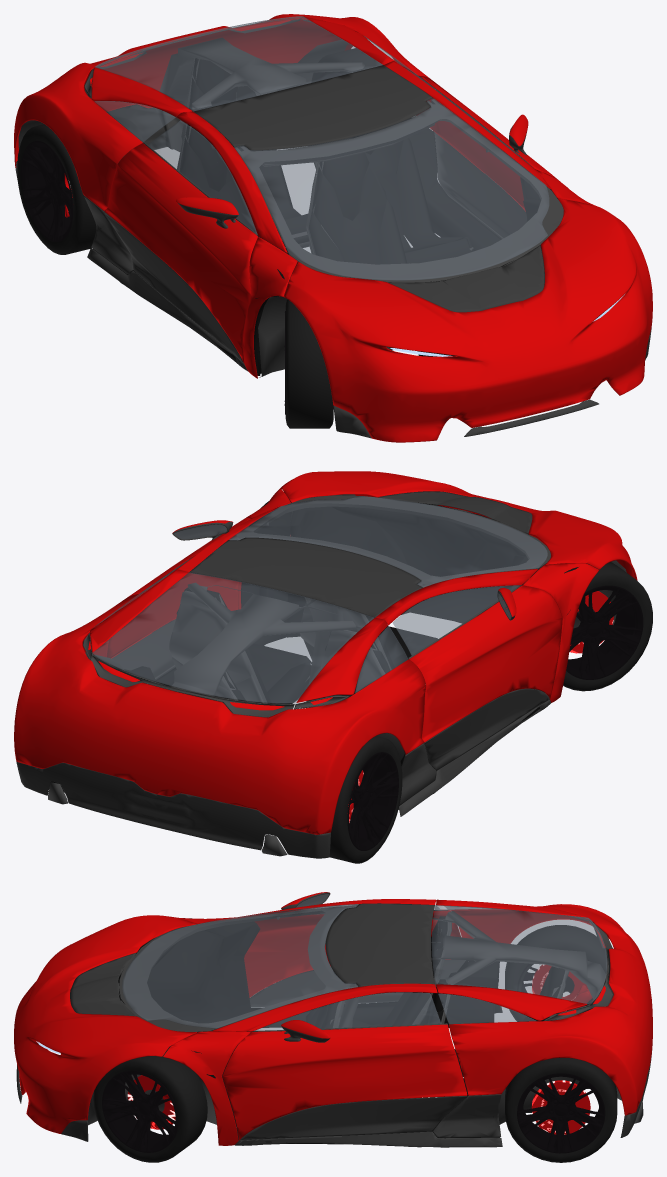
Rendered from sport.glb.
The picture shows the model from 3 angles, top to bottom: view 1: azimuth 30°, elevation 25°; view 2: azimuth 150°, elevation 25°; view 3: azimuth 270°, elevation 25°; orthographic projection. The views are drawn at different scales.
Visible parts, largest first — view 1: Body, WheelRearR, WheelFrontR, WheelRearL; view 2: Body, WheelFrontR, WheelRearR; view 3: Body, WheelFrontL, WheelRearL, WheelRearR.
Part boxes in pixels (x1=…): Body: x1=14, y1=14, x2=652, y2=442; WheelRearR: x1=17, y1=124, x2=96, y2=254; WheelFrontR: x1=284, y1=299, x2=333, y2=428; WheelRearL: x1=311, y1=48, x2=383, y2=82; Body: x1=14, y1=471, x2=637, y2=858; WheelFrontR: x1=563, y1=562, x2=652, y2=691; WheelRearR: x1=329, y1=736, x2=402, y2=863; Body: x1=14, y1=892, x2=652, y2=1147; WheelFrontL: x1=93, y1=1050, x2=207, y2=1162; WheelRearL: x1=505, y1=1058, x2=617, y2=1162; WheelRearR: x1=505, y1=925, x2=610, y2=1021.
Bounding box in the file's own units: 2.54 × 1.15 × 4.36.
Materials: 10 (1 with a texture image).
